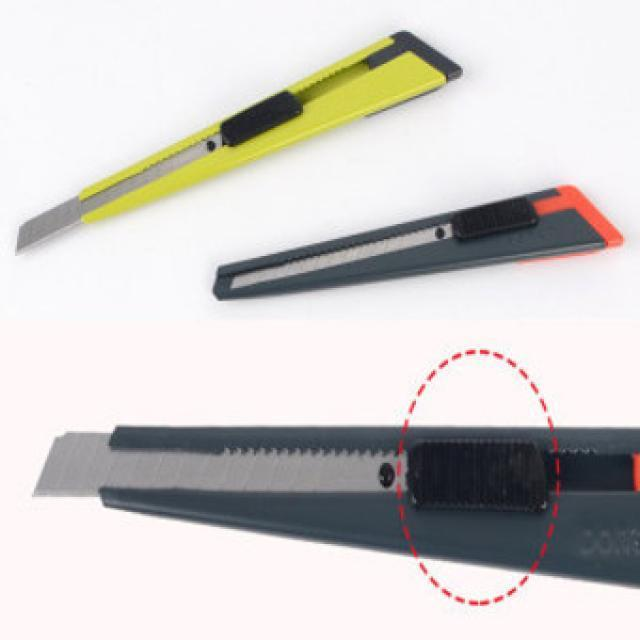cutter: (20, 393, 640, 606), (11, 17, 468, 274), (209, 176, 630, 308)
